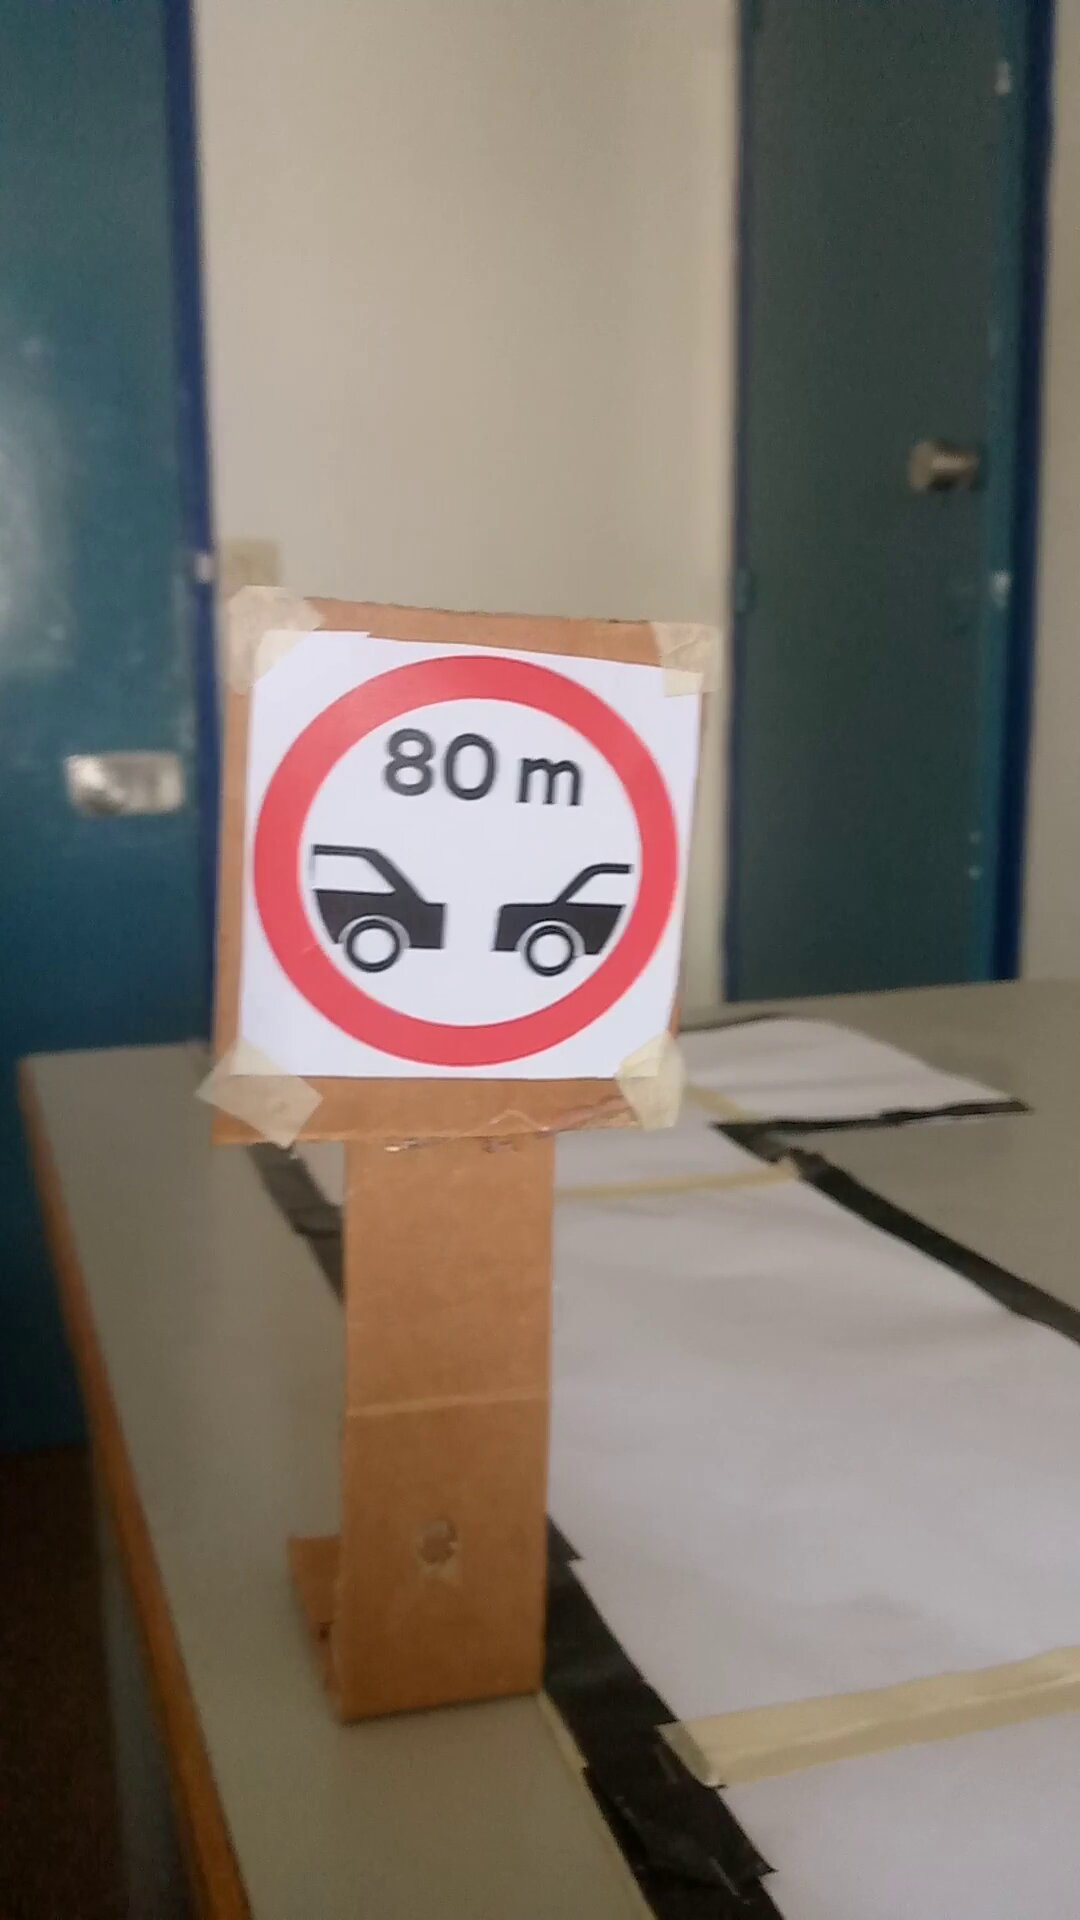panel001: (253, 607, 707, 1120)
